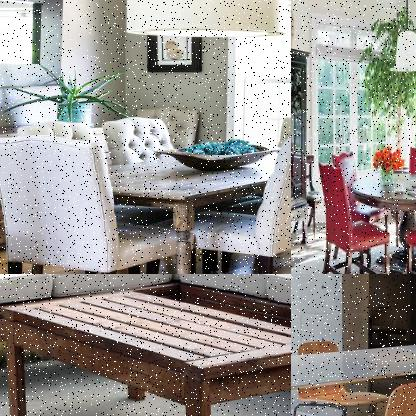table: (0, 287, 290, 415), (23, 136, 290, 273), (291, 336, 415, 415), (348, 171, 415, 273)
